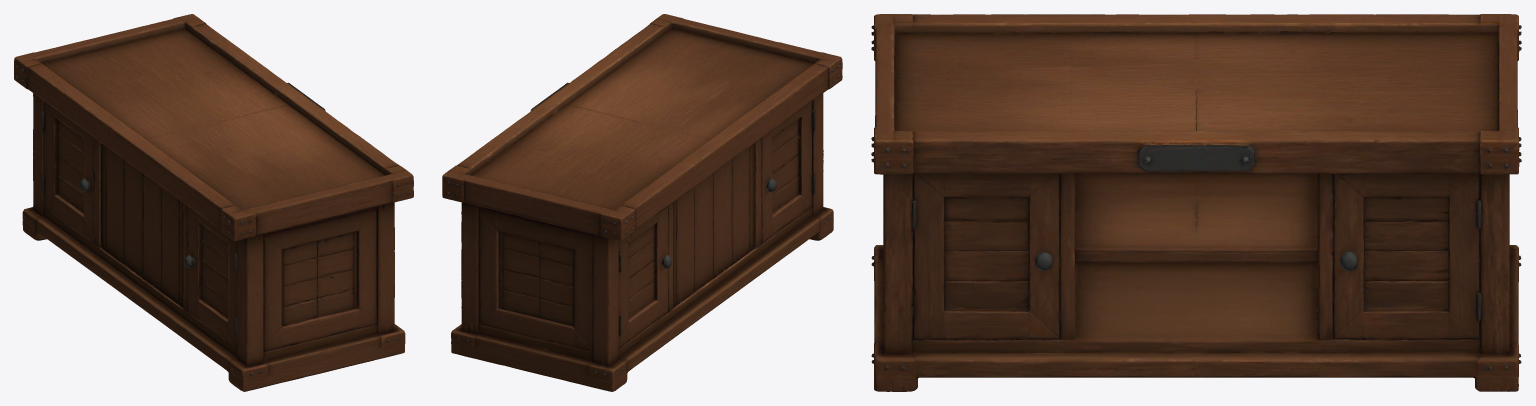
File: aquarium.glb
The picture shows the model from 3 angles, left to right: view 1: azimuth 30°, elevation 25°; view 2: azimuth 150°, elevation 25°; view 3: azimuth 270°, elevation 25°; orthographic projection. The views are drawn at different scales.
Parts seen in each view (by area): view 1: tripo_node_62584ab6-350d-4e60-b112-be88f7bf7c6d; view 2: tripo_node_62584ab6-350d-4e60-b112-be88f7bf7c6d; view 3: tripo_node_62584ab6-350d-4e60-b112-be88f7bf7c6d.
Boxes of the visible parts, <box> form: tripo_node_62584ab6-350d-4e60-b112-be88f7bf7c6d: <box>14,14,413,391</box>; tripo_node_62584ab6-350d-4e60-b112-be88f7bf7c6d: <box>442,14,842,391</box>; tripo_node_62584ab6-350d-4e60-b112-be88f7bf7c6d: <box>871,14,1521,391</box>.
Bounding box in the file's own units: 0.4774 × 0.4303 × 0.983.
Materials: 1 (1 with a texture image).
